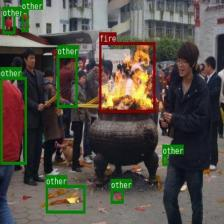fire: (99, 42, 154, 112)
